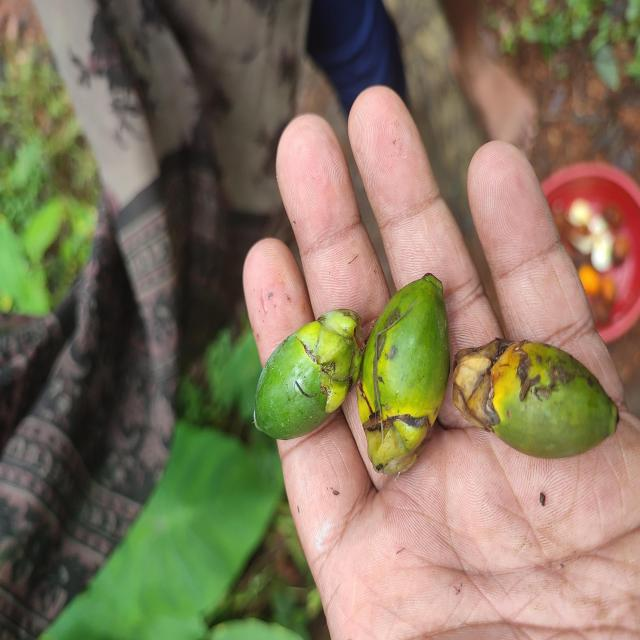damaged: (357, 275, 451, 484), (461, 342, 619, 461), (254, 312, 362, 443)
